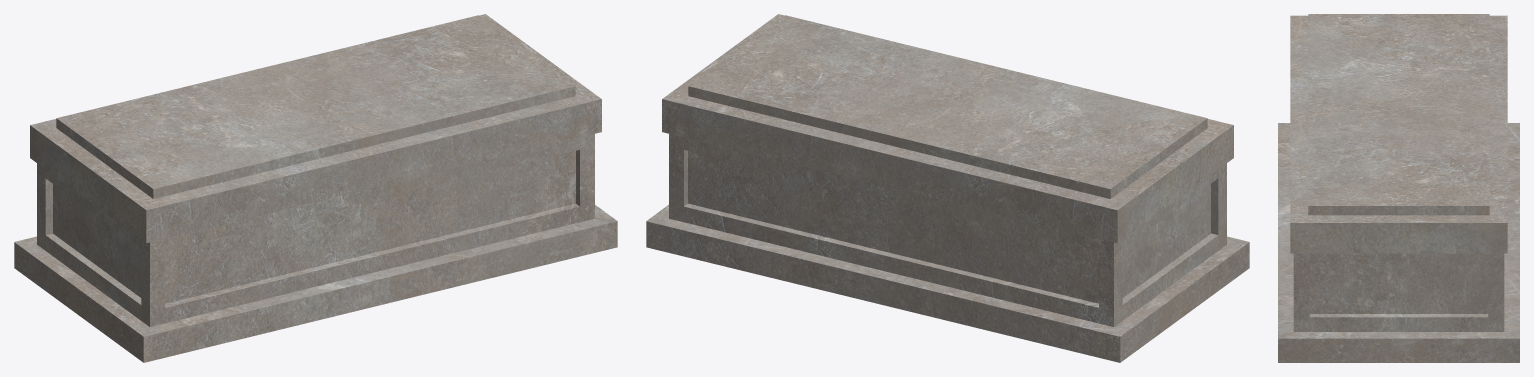
File: Crypt.fbx
3 renders of one model, left to right at view 1: azimuth 30°, elevation 25°; view 2: azimuth 150°, elevation 25°; view 3: azimuth 270°, elevation 25°, orthographic. The views are drawn at different scales.
Visible parts, largest first — view 1: CryptTop, CryptBase; view 2: CryptTop, CryptBase; view 3: CryptTop, CryptBase.
Part boxes in pixels (bbox=[...]): CryptTop: bbox=[30, 14, 601, 243]; CryptBase: bbox=[14, 134, 617, 362]; CryptTop: bbox=[662, 14, 1233, 243]; CryptBase: bbox=[646, 134, 1249, 362]; CryptTop: bbox=[1290, 14, 1507, 253]; CryptBase: bbox=[1278, 123, 1519, 362].
Bounding box in the file's own units: 190 × 59.56 × 90.
